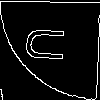U: (25, 25, 75, 64)
